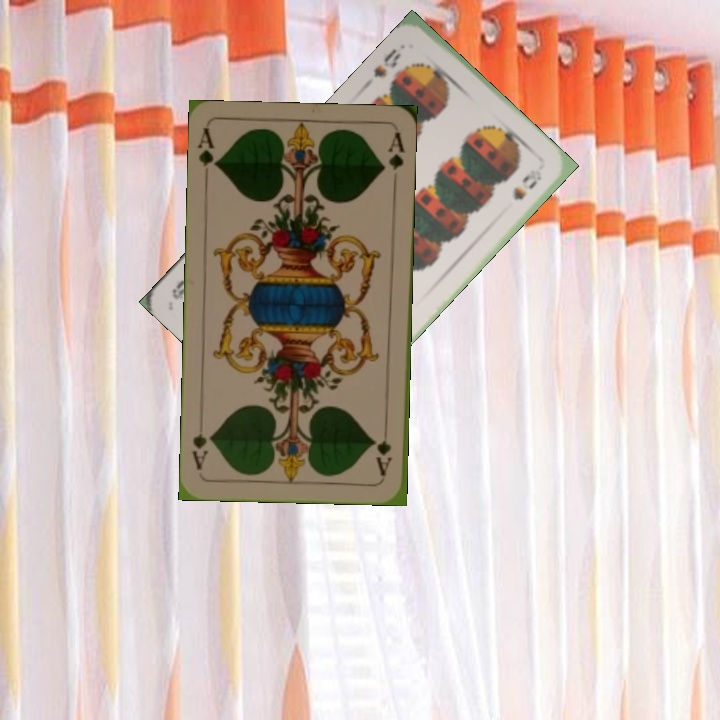GA: (194, 125, 221, 184), (372, 436, 394, 479)
S8: (369, 44, 404, 80)
